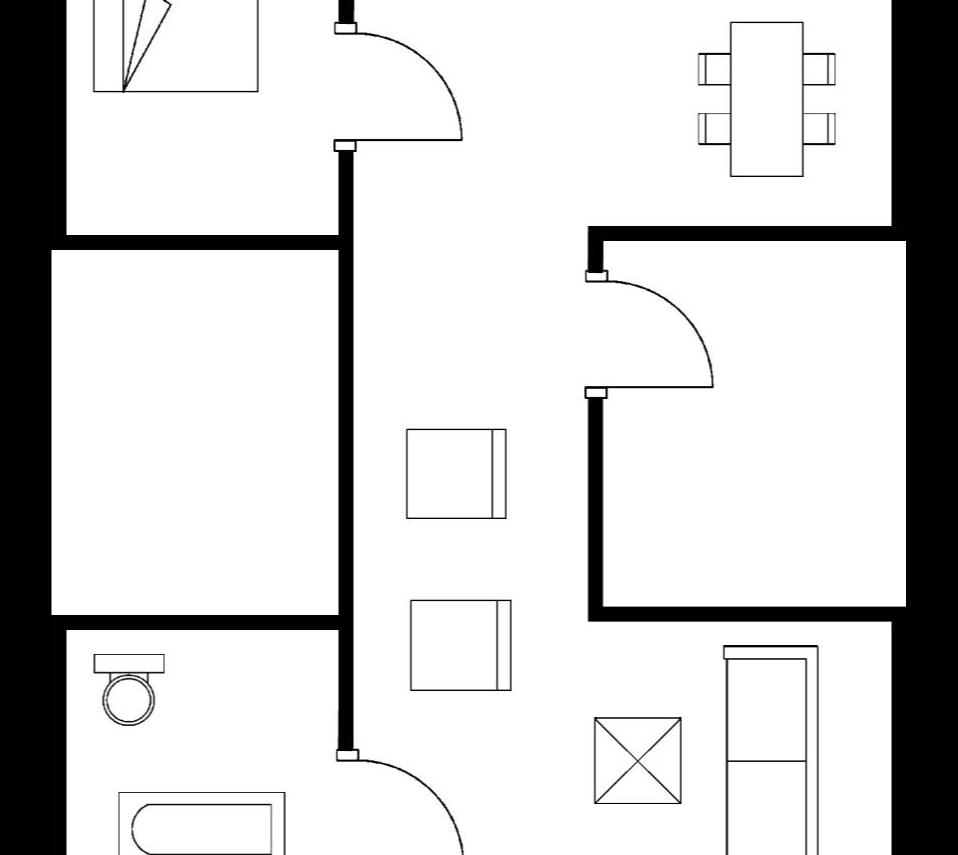bed: (87, 0, 264, 97)
dining_table: (692, 11, 844, 186)
sofa: (718, 638, 824, 855)
toilet: (86, 648, 172, 730)
tub: (113, 784, 292, 855)
